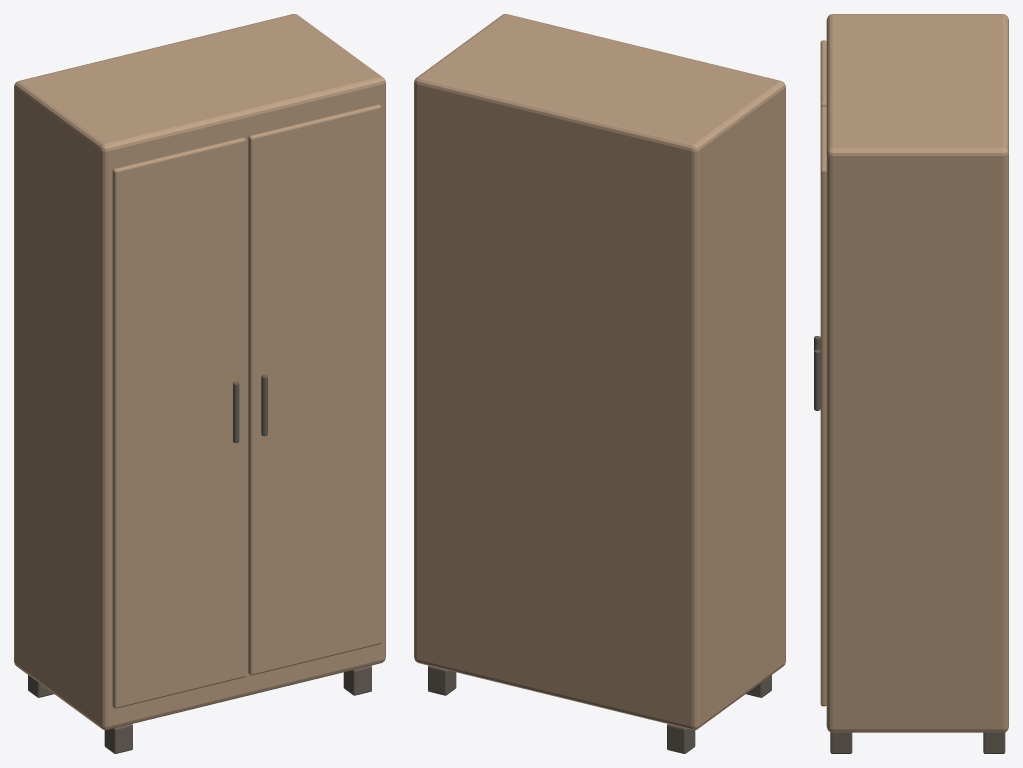
Rendered from modern_office_kitchenette_asset_board_18.glb.
3 renders of one model, left to right at view 1: azimuth 30°, elevation 25°; view 2: azimuth 150°, elevation 25°; view 3: azimuth 270°, elevation 25°, orthographic.
Parts seen in each view (by area): view 1: Cube; view 2: Cube; view 3: Cube.
Boxes of the visible parts, x1,y1,x2,y2 form: Cube: [14, 14, 385, 753]; Cube: [414, 14, 785, 753]; Cube: [814, 14, 1008, 753].
Bounding box in the file's own units: 0.9 × 1.85 × 0.535.
